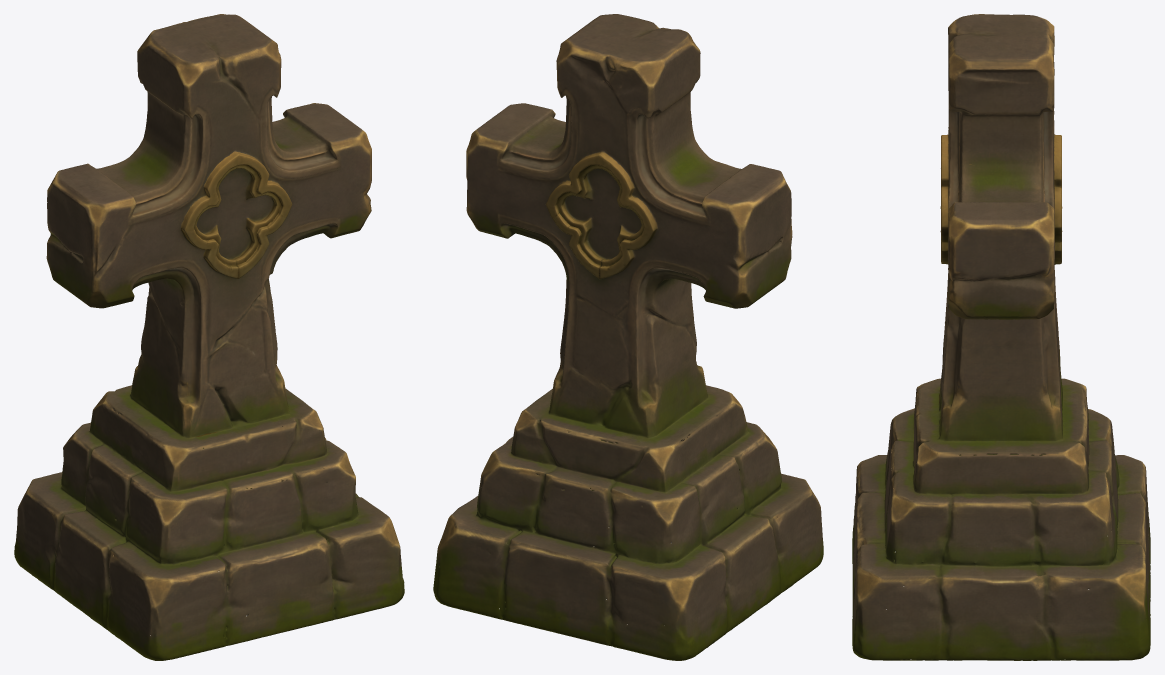
Rendered from tombstone_b.glb.
The picture shows the model from 3 angles, left to right: view 1: azimuth 30°, elevation 25°; view 2: azimuth 150°, elevation 25°; view 3: azimuth 270°, elevation 25°; orthographic projection. The views are drawn at different scales.
Size of the model in its own units: 0.5426 by 0.9984 by 0.4816.
Materials: 1 (1 with a texture image).
